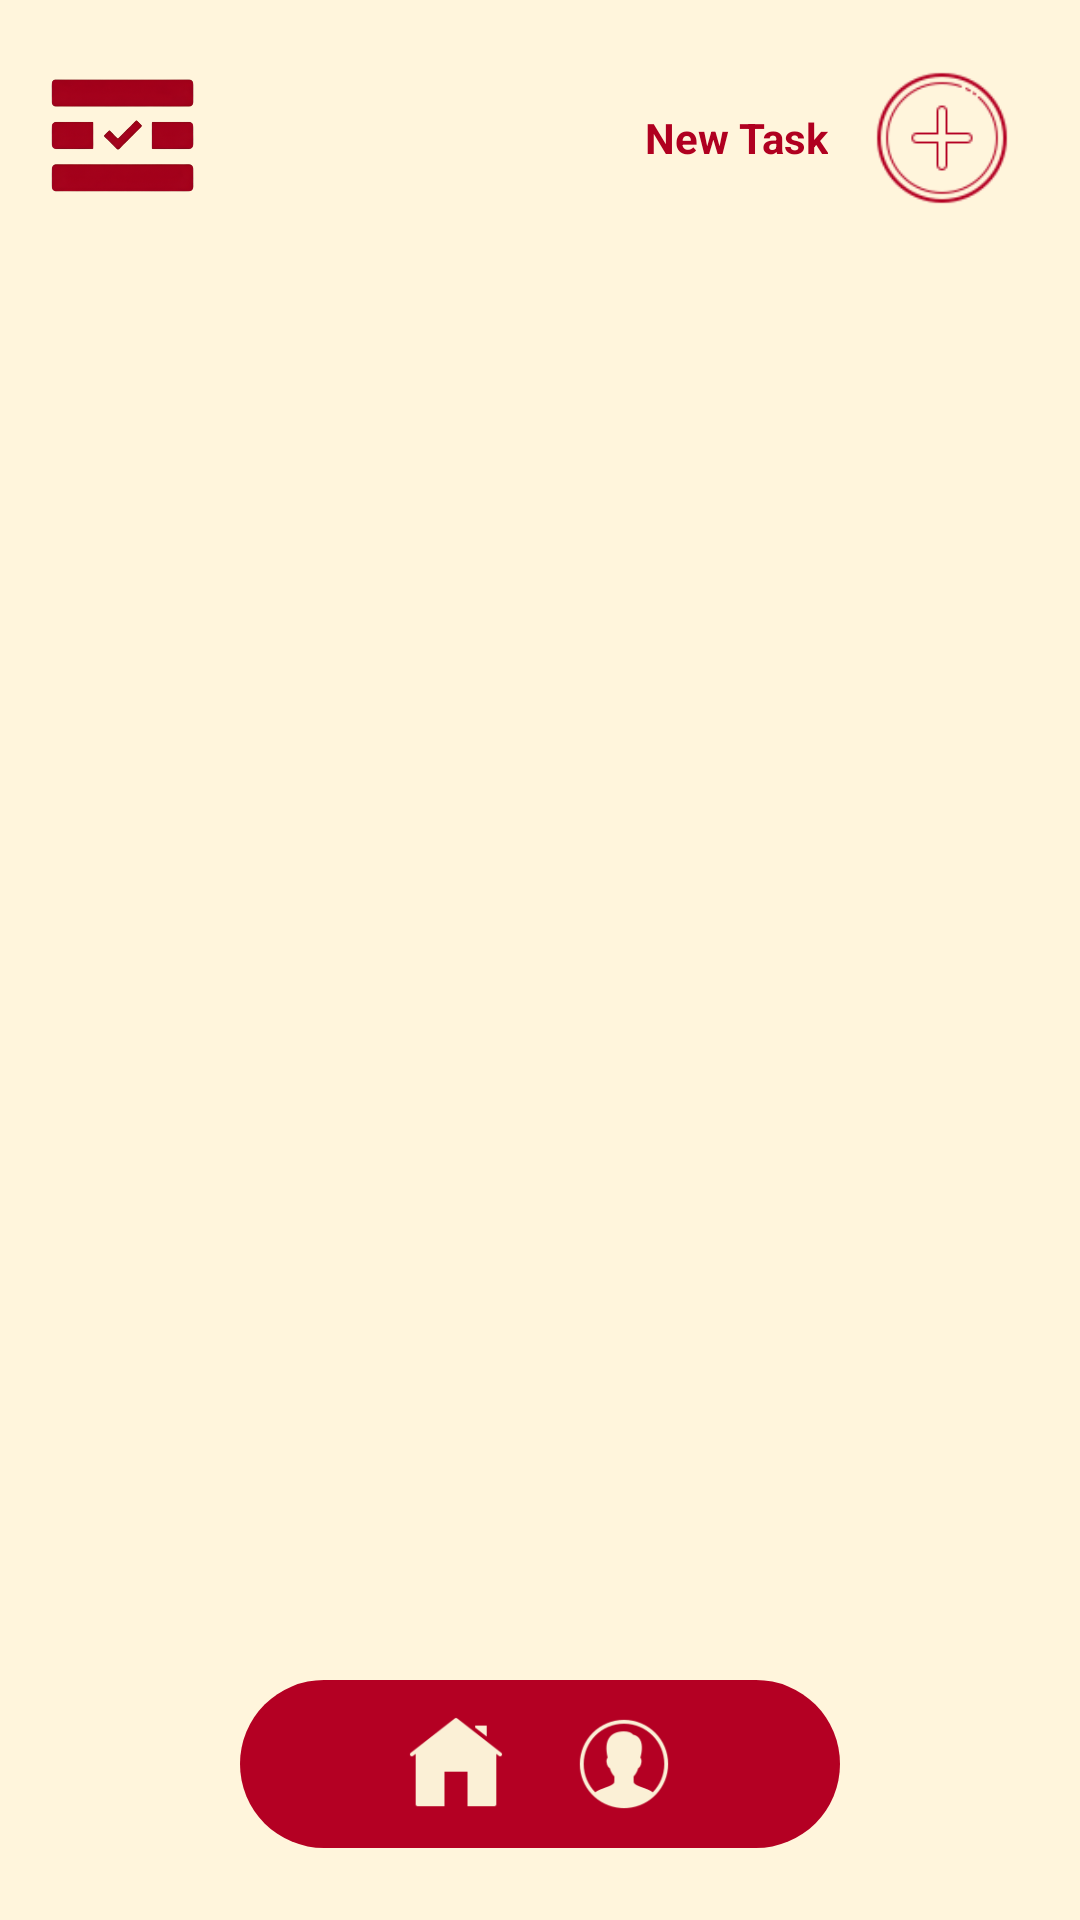

Screen size 1080 × 1920. Icon name, then its center in pixels as (x,y):
Add Task Icon: (942,138)
home: (456,1762)
user: (624,1764)
